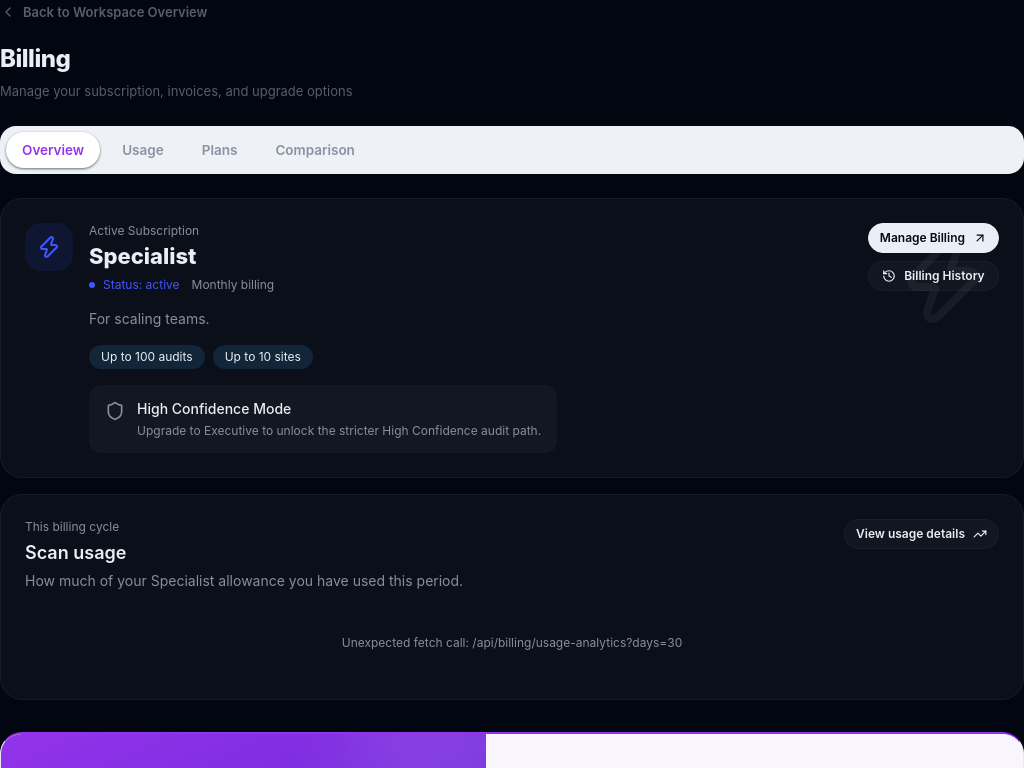
Test: BillingPage › renders no Strategist badge when has_dedicated_strategist is true, and keeps the other badges
Expected: the text "Active Subscription" is shown, [89,222,199,238]
Click the tab "Plans": [220, 150] box [186,132,253,168]
(page scrolled)
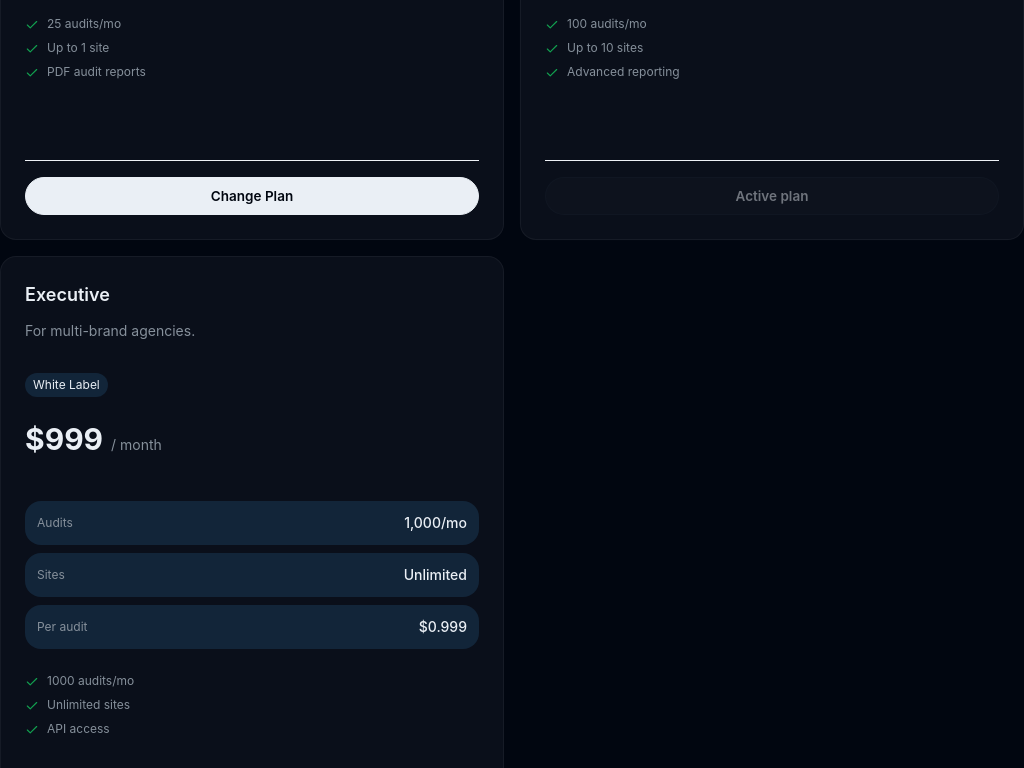
Expected: the text "White Label" is shown, [25,372,108,396]
